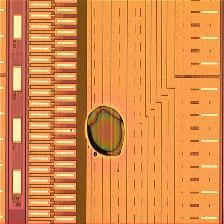PARTICLE: (84, 104, 131, 164)
